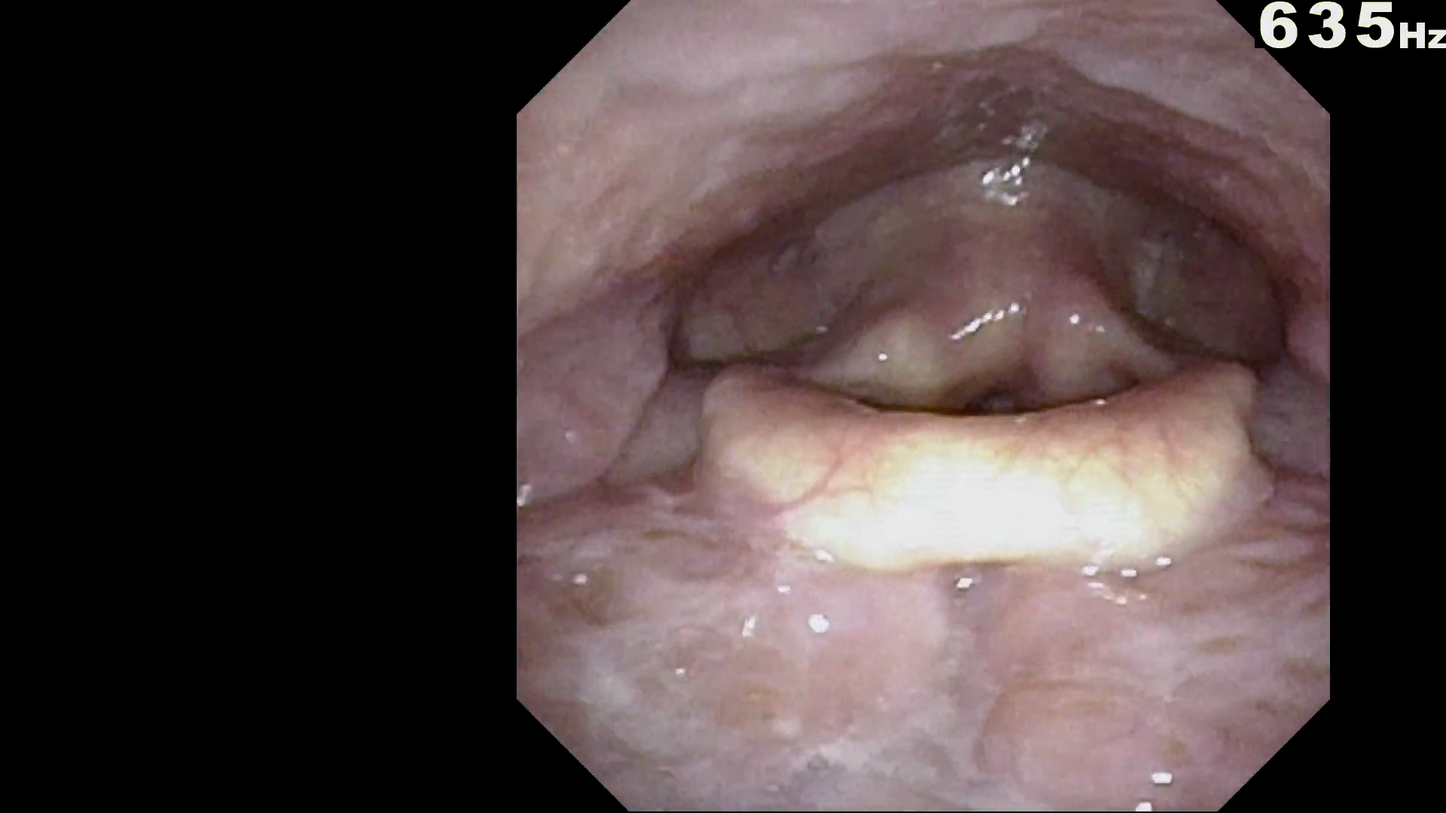epiglottis: (703, 353, 1282, 568)
